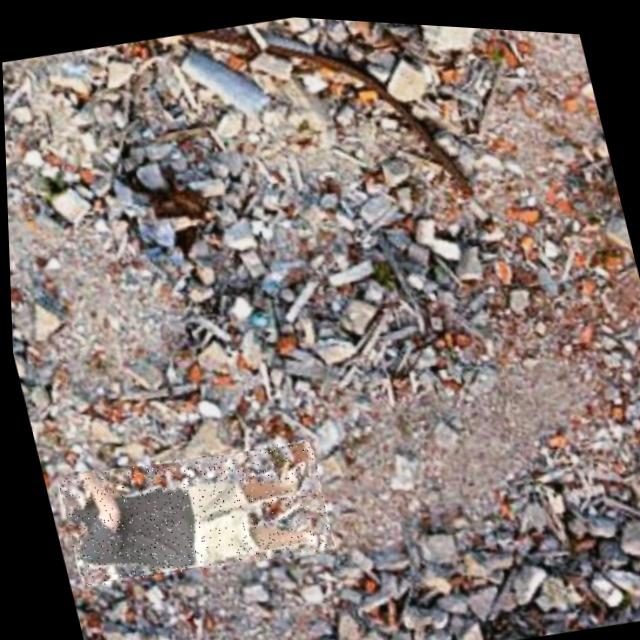Person in Rubble: (50, 421, 333, 597)
